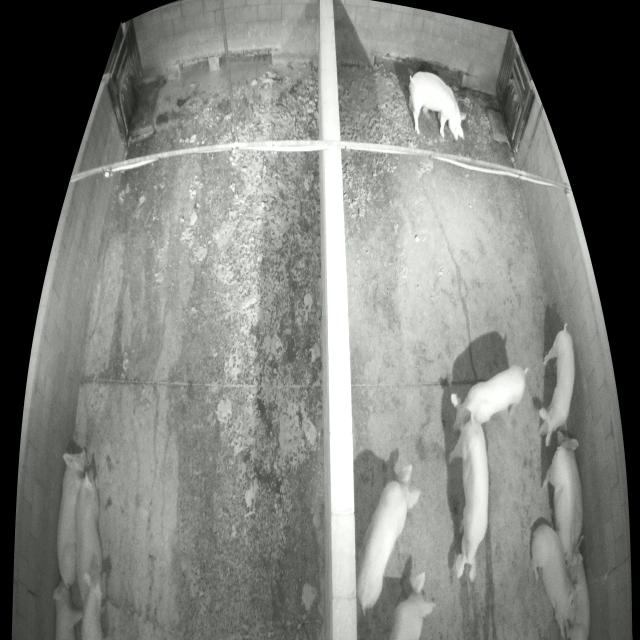pig: (356, 463, 421, 612), (450, 416, 490, 584), (532, 525, 580, 637), (450, 365, 526, 432), (542, 444, 583, 557), (56, 449, 88, 588), (537, 331, 575, 447), (74, 467, 103, 605), (408, 72, 466, 140), (389, 572, 435, 639), (566, 553, 592, 639), (79, 572, 106, 639), (53, 580, 82, 638)
